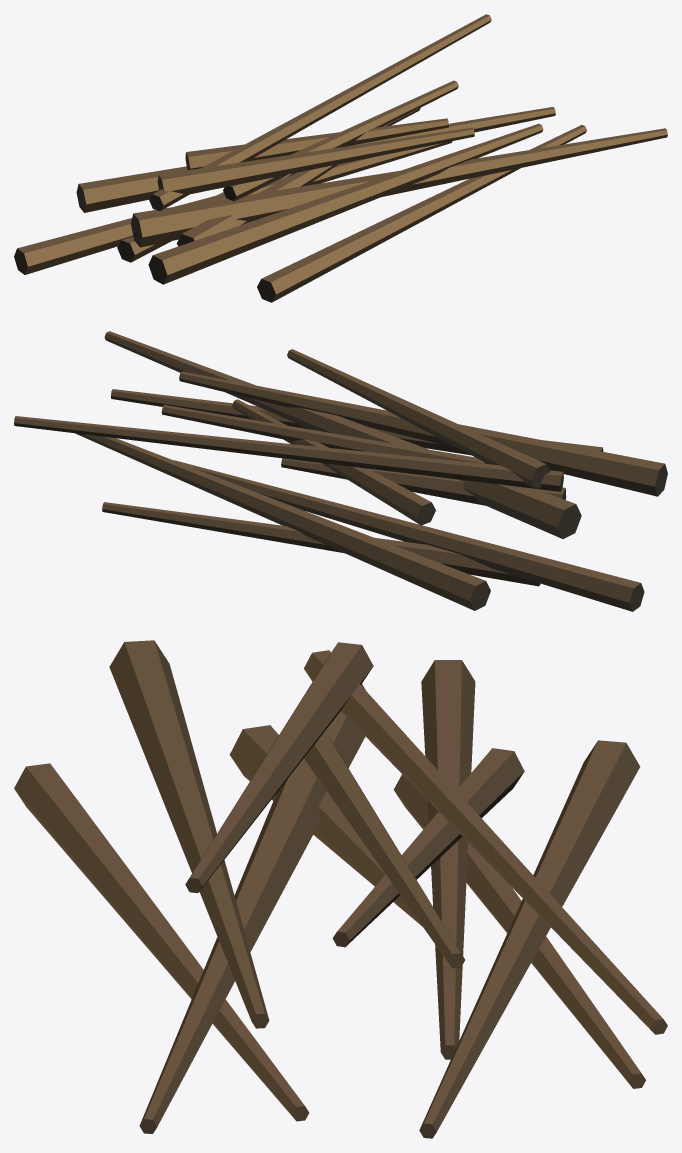
3 views of the same model, one above another, from view 1: azimuth 30°, elevation 25°; view 2: azimuth 150°, elevation 25°; view 3: azimuth 270°, elevation 25° (orthographic). The views are drawn at different scales.
Visible parts, largest first — view 1: forest-splinter-pile · evaluated preview mesh; view 2: forest-splinter-pile · evaluated preview mesh; view 3: forest-splinter-pile · evaluated preview mesh.
Boxes of the visible parts, x1,y1,x2,y2 form: forest-splinter-pile · evaluated preview mesh: (14,14,667,302); forest-splinter-pile · evaluated preview mesh: (14,331,667,611); forest-splinter-pile · evaluated preview mesh: (14,640,667,1138).
Size of the model in its own units: 4.93 by 0.8607 by 2.54.
